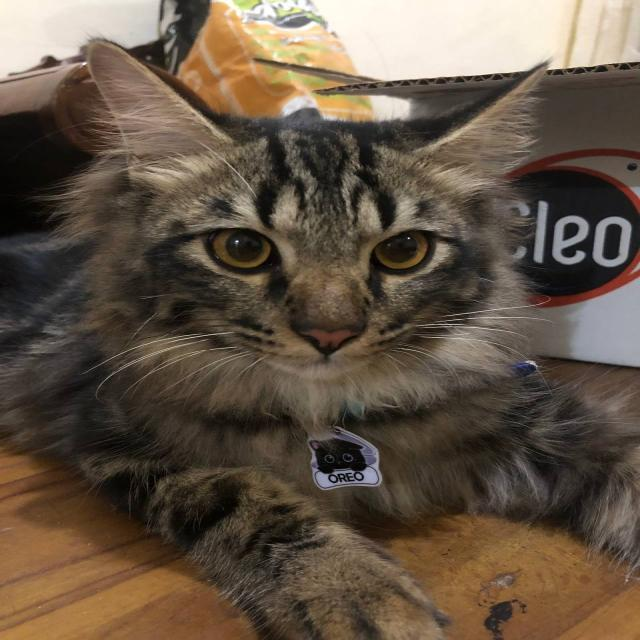da khoe manh: (12, 285, 292, 497)
